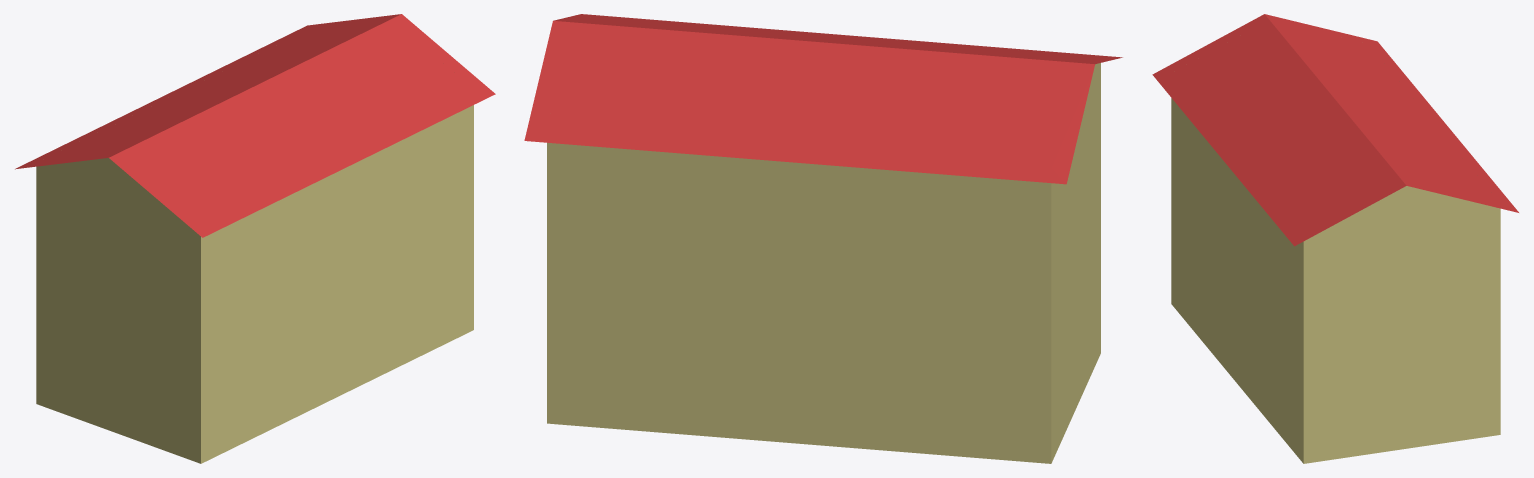
3 renders of one model, left to right at view 1: azimuth 30°, elevation 25°; view 2: azimuth 150°, elevation 25°; view 3: azimuth 270°, elevation 25°, orthographic. The views are drawn at different scales.
Bounding box in the file's own units: 24.28 × 18.37 × 14.88.
